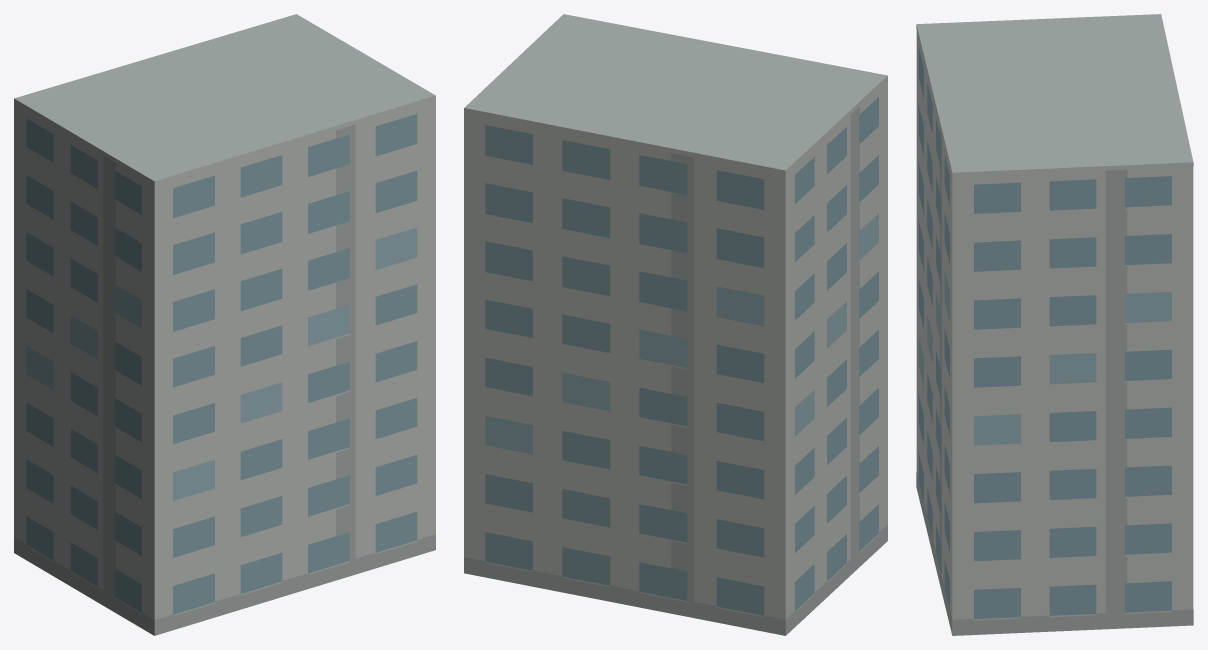
File: survey-upis-32828206.glb
3 views of the same model, side by side, from view 1: azimuth 30°, elevation 25°; view 2: azimuth 150°, elevation 25°; view 3: azimuth 270°, elevation 25° (orthographic). The views are drawn at different scales.
Parts seen in each view (by area): view 1: survey-upis-32828206.tmp; view 2: survey-upis-32828206.tmp; view 3: survey-upis-32828206.tmp.
Boxes of the visible parts, x1=… form: survey-upis-32828206.tmp: x1=14, y1=14, x2=435, y2=635; survey-upis-32828206.tmp: x1=464, y1=14, x2=887, y2=635; survey-upis-32828206.tmp: x1=916, y1=14, x2=1193, y2=635.
Size of the model in its own units: 18.26 by 24.82 by 13.47.
